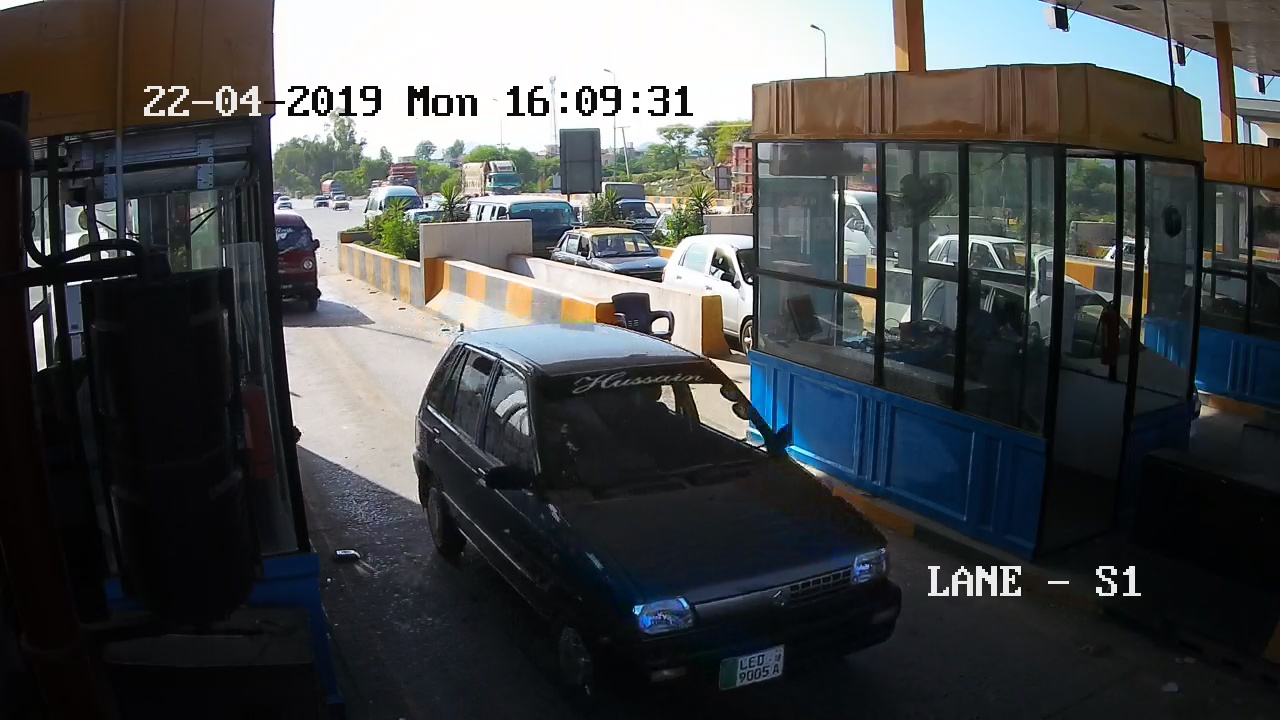Number Plate (Car): (718, 646, 784, 687)
